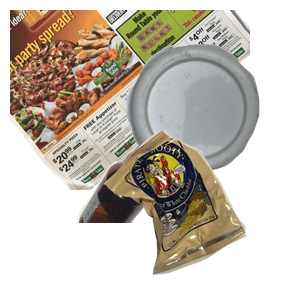glass: (74, 120, 244, 300)
paper: (10, 10, 250, 190)
plastic: (124, 42, 300, 210)
trash: (101, 127, 300, 300)
